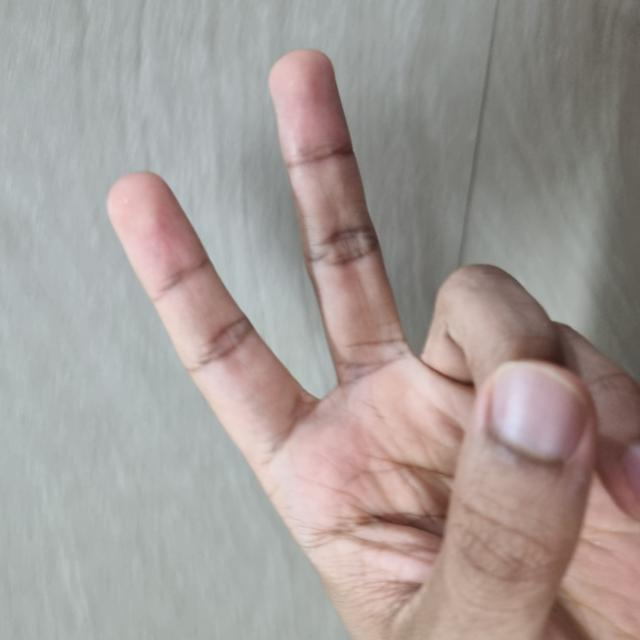Scissors: (0, 110, 587, 640)
